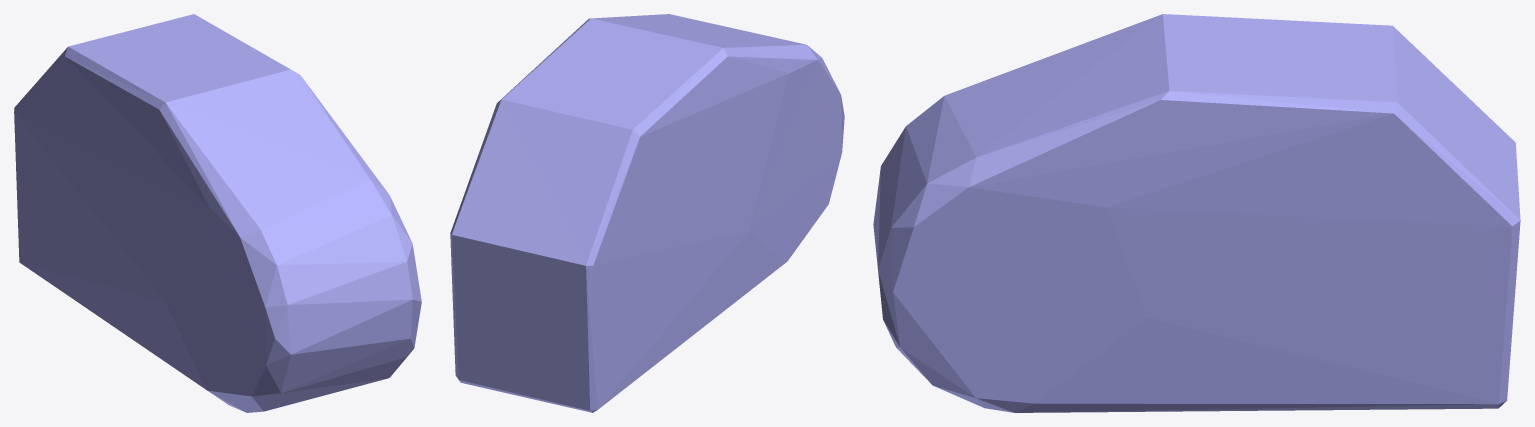
The model's file is dvkr_robot_L1_respondable_ECM_coll_1.dae.
3 renders of one model, left to right at view 1: azimuth 30°, elevation 25°; view 2: azimuth 150°, elevation 25°; view 3: azimuth 270°, elevation 25°, orthographic. The views are drawn at different scales.
Visible parts, largest first — view 1: Node_0000023514CDA040; view 2: Node_0000023514CDA040; view 3: Node_0000023514CDA040.
Part boxes in pixels (x1,y1,x2,y2): Node_0000023514CDA040: (14, 14, 421, 412); Node_0000023514CDA040: (450, 14, 844, 412); Node_0000023514CDA040: (873, 14, 1520, 412).
Size of the model in its own units: 0.1027 by 0.1611 by 0.2946.
